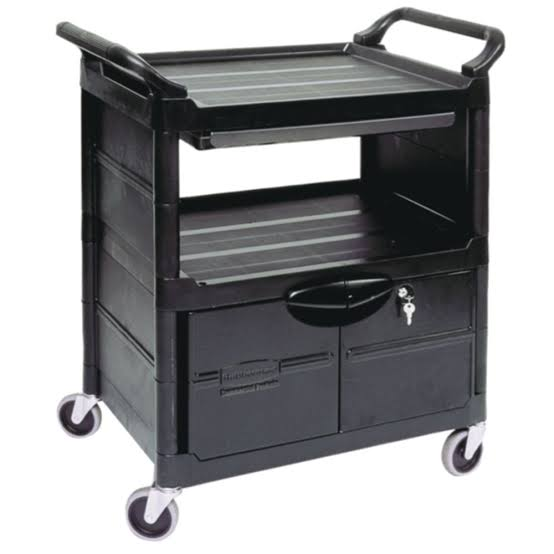Carts: (50, 6, 507, 542)
